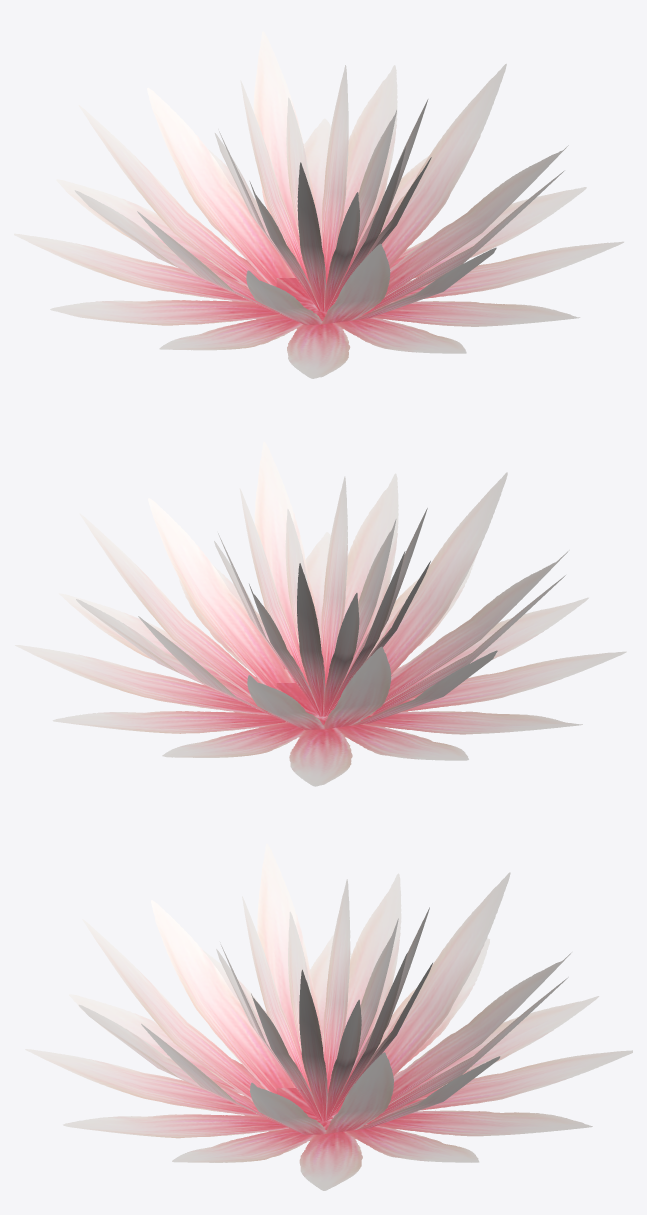
File: Nemphaea.fbx
3 views of the same model, one above another, from view 1: azimuth 30°, elevation 25°; view 2: azimuth 150°, elevation 25°; view 3: azimuth 270°, elevation 25° (orthographic).
Visible parts, largest first — view 1: pCylinder4; view 2: pCylinder4; view 3: pCylinder4.
Boxes of the visible parts, bbox=[...] form: pCylinder4: bbox=[14, 31, 623, 378]; pCylinder4: bbox=[15, 441, 626, 786]; pCylinder4: bbox=[25, 843, 632, 1190].
Size of the model in its own units: 1.73 by 0.5988 by 1.5.
